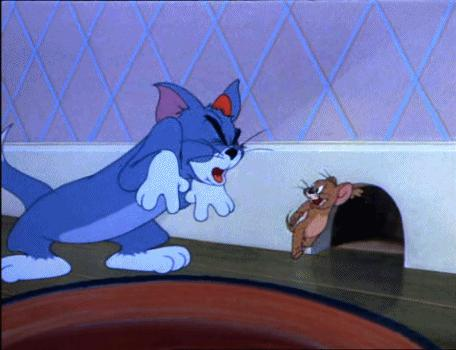jerry: (284, 170, 363, 260)
